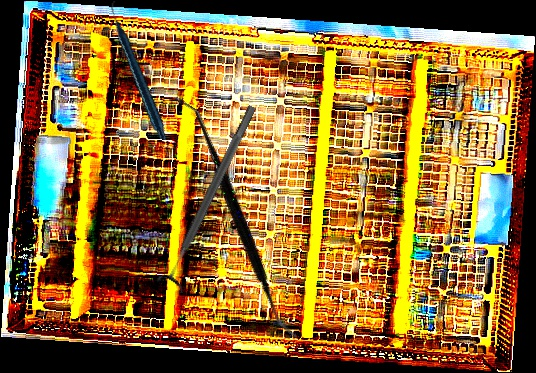Fixation Ring: (153, 100, 268, 294)
Handpiece: (80, 0, 199, 141)
Spatula Surgical: (101, 96, 371, 339)
